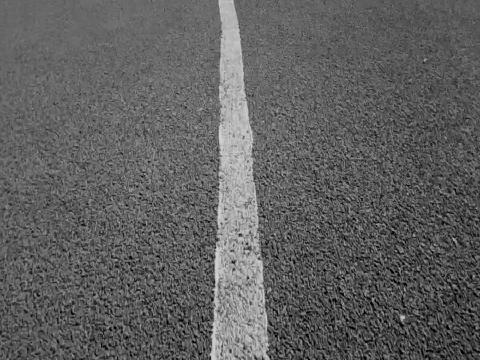Lines: (210, 0, 272, 360)
